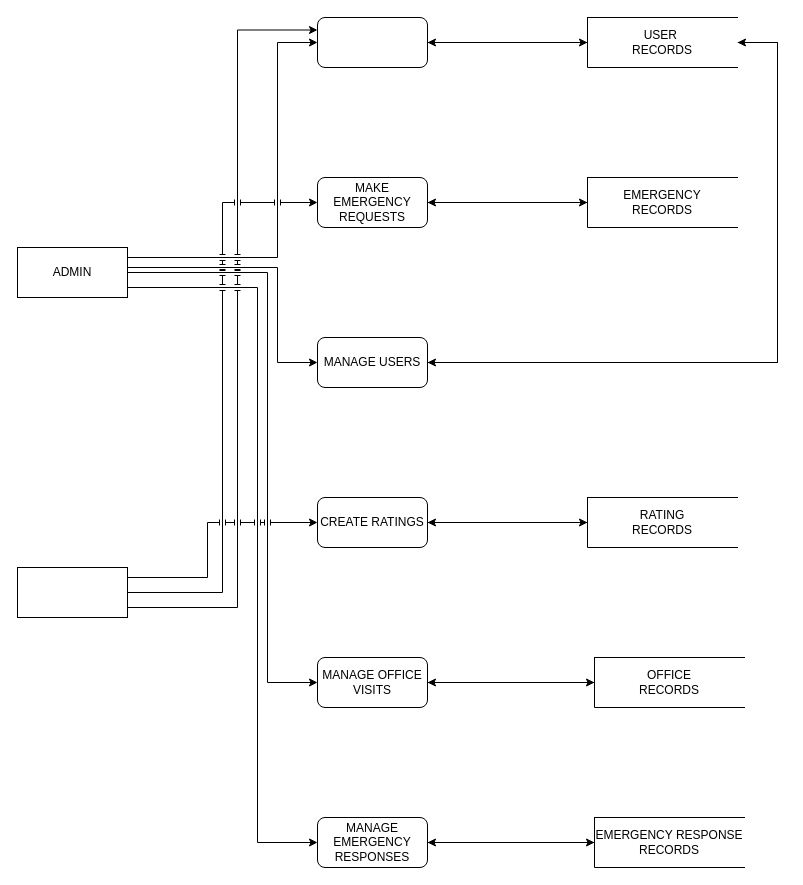
Some shapes in this 803 by 885 pixel diagram are drawn without their labels. Each missing label, with the box of its shape:
CREATE ACCOUNT/LOGIN: (316, 16, 428, 68)
USERS: (16, 566, 128, 618)
